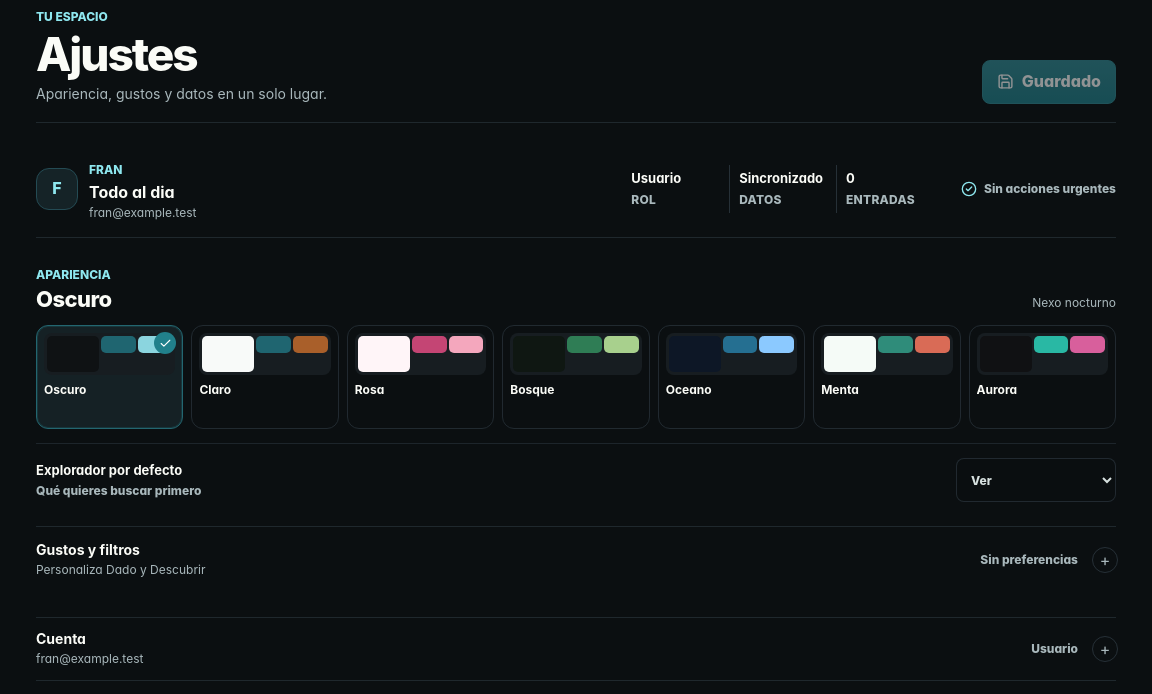
SettingsTab › keeps advanced areas collapsed and presents a single save action
Click the button with aria-label "Tema Claro" at (265,377), box top-left (191, 325), bottom-right (339, 429)
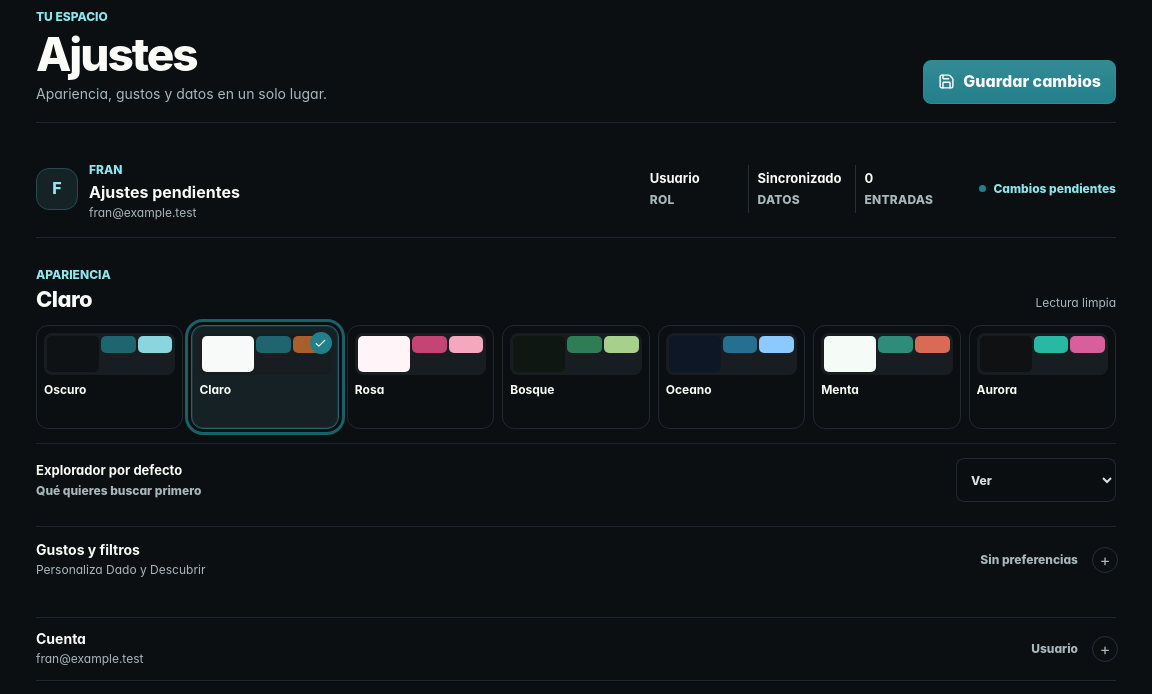
Expected: the number of buttons "Guardar cambios" is 1, top-left (923, 60), bottom-right (1116, 104)
Now the text "Cambios pendientes" is shown, box top-left (993, 181), bottom-right (1116, 196)
